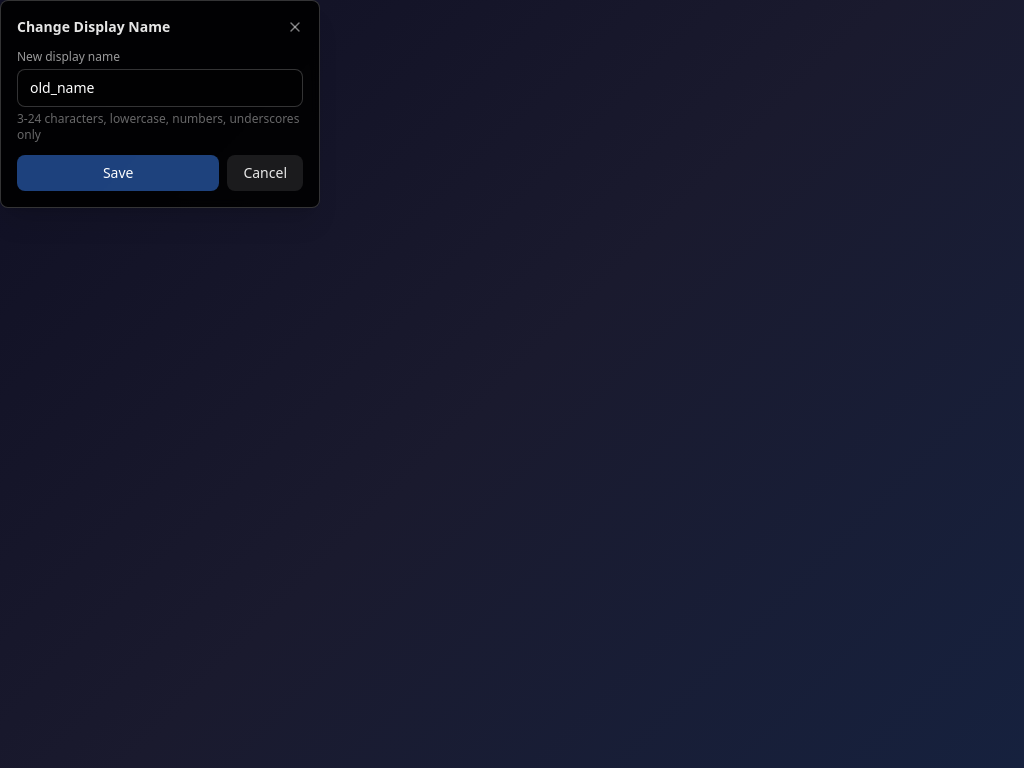
Test: ProfileRename - Rename Flow › 409 NAME_TAKEN shows inline error
Replace the text in the field labelled "New display name" with "taken_name": (160, 88) [17,69,303,107]
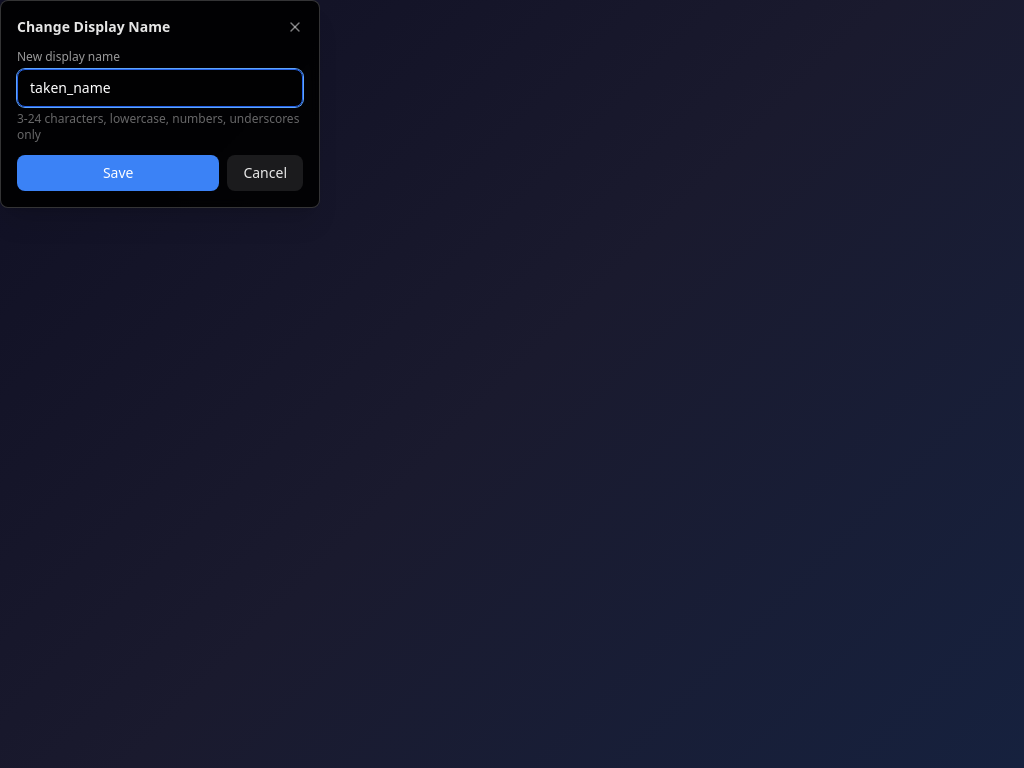
Click the button "Save": click(118, 173) [17,155,219,191]
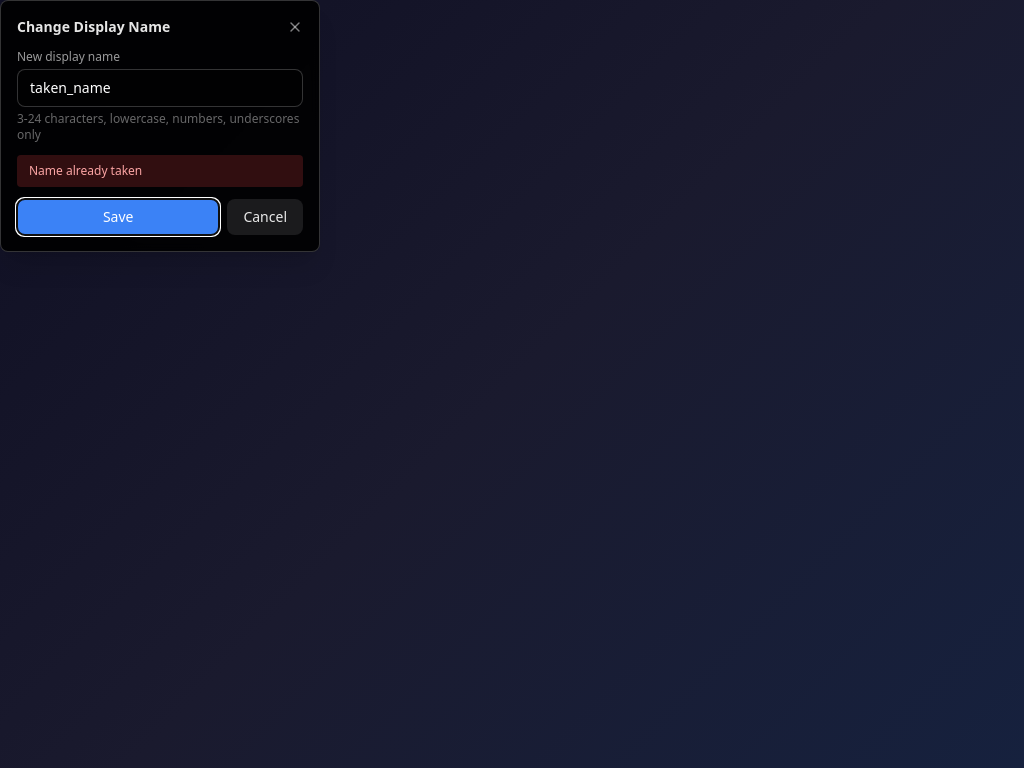
Now the text "Name already taken" is shown, box [17,155,303,187]
